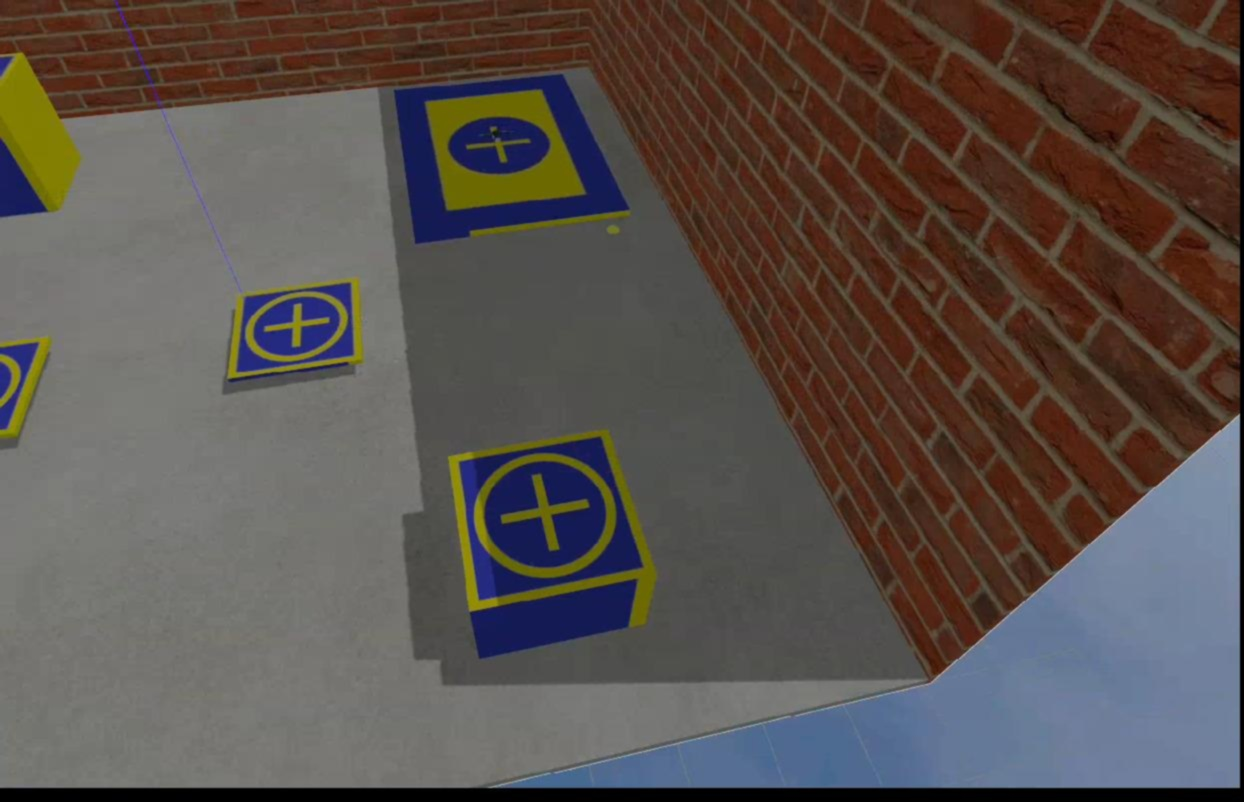large_base: (391, 69, 631, 247)
small_base: (448, 428, 661, 613), (227, 279, 364, 383), (0, 337, 49, 449)
